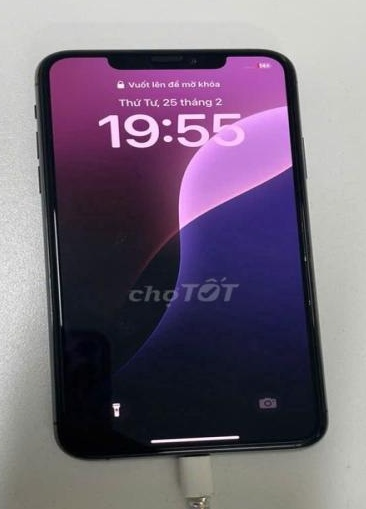scratch: (76, 213, 150, 255)
